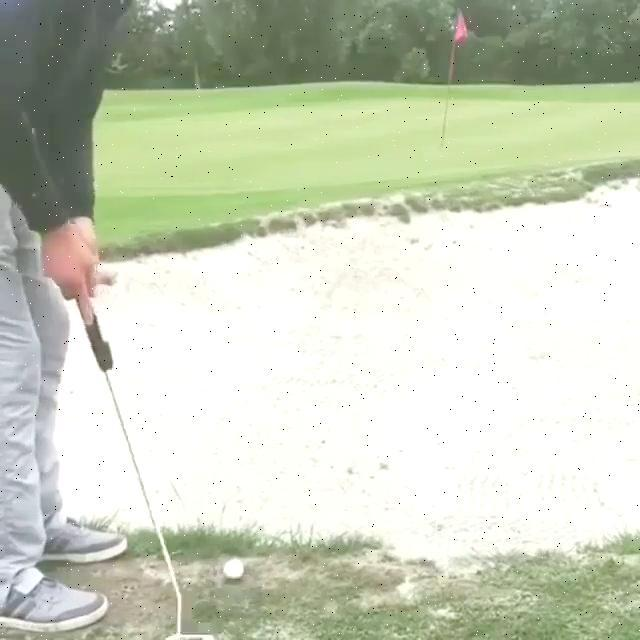golf ball: (223, 559, 245, 579)
golf club-handle: (84, 320, 215, 640)
golf club-head: (168, 633, 214, 640)
